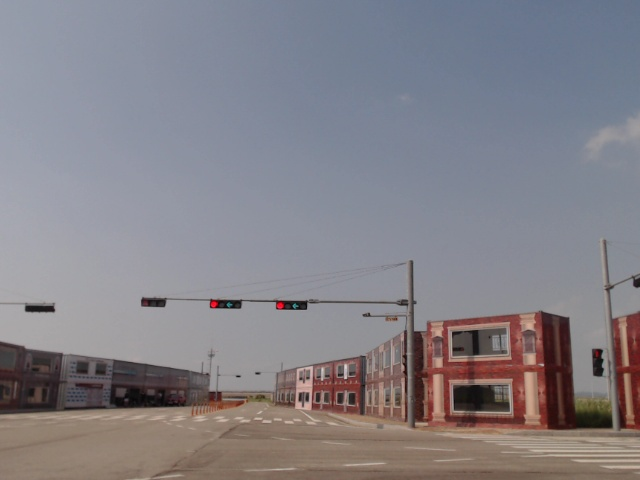left_green_4: (210, 300, 241, 310), (276, 301, 308, 310)
